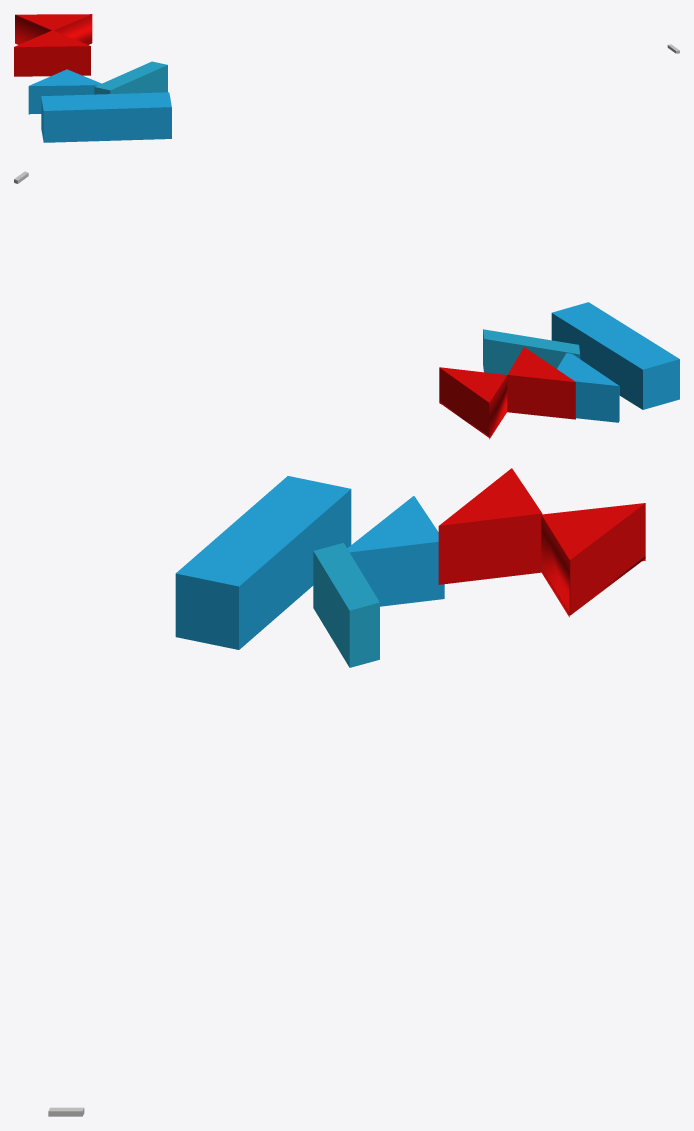
File: Rune2NoStoneMapped.fbx
3 views of the same model, one above another, from view 1: azimuth 30°, elevation 25°; view 2: azimuth 150°, elevation 25°; view 3: azimuth 270°, elevation 25° (orthographic). The views are drawn at different scales.
Parts seen in each view (by area): view 1: Cube.001, Cube.004, Cube.005, Cube.003, Cube.002; view 2: Cube.001, Cube.004, Cube.005, Cube.002, Cube.003; view 3: Cube.001, Cube.004, Cube.005, Cube.002, Cube.003.
Boxes of the visible parts, x1,y1,x2,y2 form: Cube.001: (41,92,171,142); Cube.004: (14,30,90,76); Cube.005: (15,14,92,44); Cube.003: (94,61,167,94); Cube.002: (28,69,101,114); Cube.001: (551,302,679,409); Cube.004: (507,347,575,419); Cube.005: (439,367,507,439); Cube.002: (557,353,619,422); Cube.003: (483,329,580,374); Cube.001: (175,476,351,649); Cube.004: (438,468,542,584); Cube.005: (541,503,645,617); Cube.002: (347,496,444,606); Cube.003: (313,543,379,667).
Size of the model in its own units: 742 by 68.49 by 333.
